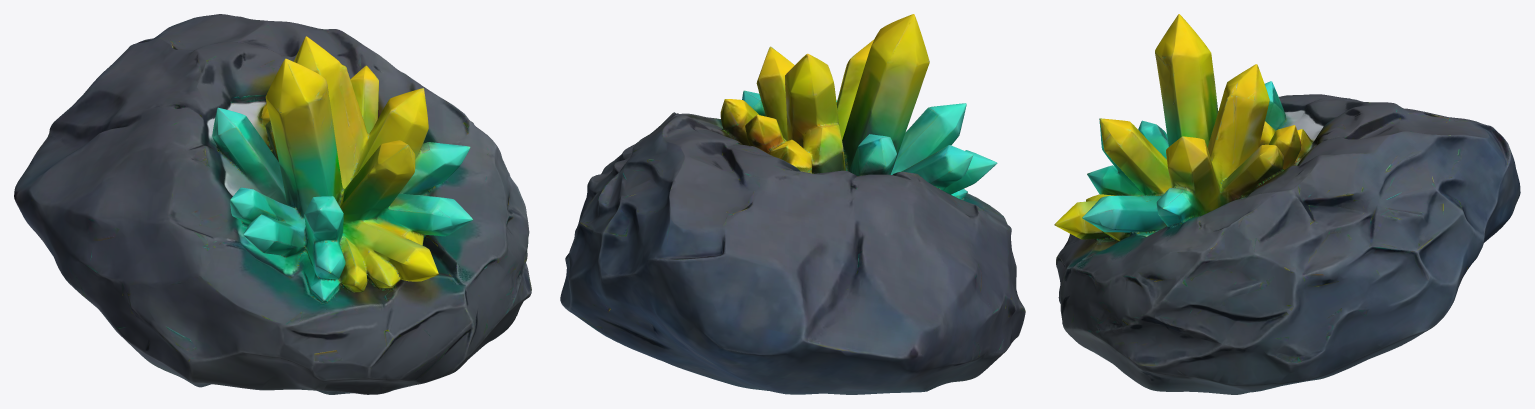
File: model.opt.glb
3 renders of one model, left to right at view 1: azimuth 30°, elevation 25°; view 2: azimuth 150°, elevation 25°; view 3: azimuth 270°, elevation 25°, orthographic. The views are drawn at different scales.
Size of the model in its own units: 1.83 by 1.48 by 2.
Materials: 1 (1 with a texture image).
